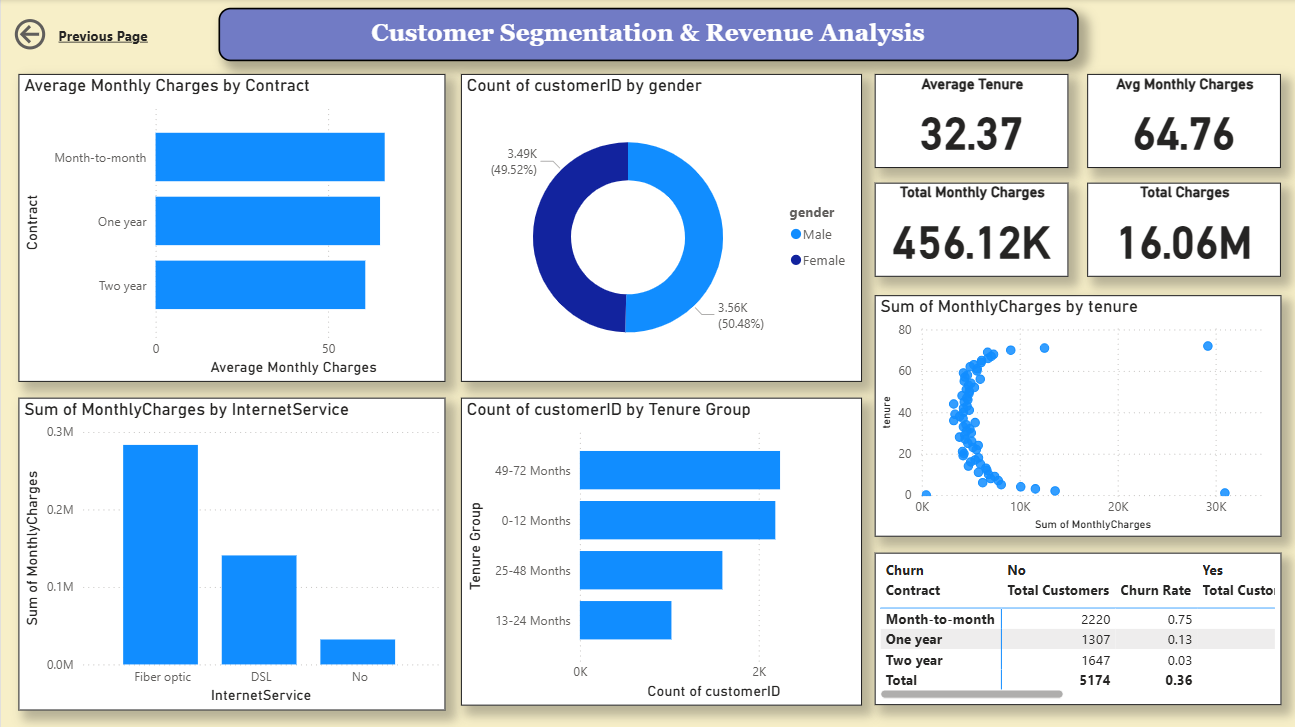

The dashboard page shown, as its layout file describes it:
{"tool":"powerbi","page":{"name":"Customer Segmentation","canvas":[1280,720],"ordinal":2},"visuals":[{"type":"actionButton","box":[8.3,15,170,40],"z":0},{"type":"textbox","box":[51.7,21.7,100.8,28.3],"z":1},{"type":"textbox","box":[214.7,8.4,849.3,53.1],"z":4},{"type":"clusteredBarChart","fields":{"Y":["Telco_Churn.Average Monthly Charges"],"Category":["Telco_Churn.Contract"]},"box":[17.1,74.3,421.4,304.3],"z":5},{"type":"clusteredColumnChart","fields":{"Y":["Sum(Telco_Churn.MonthlyCharges)"],"Category":["Telco_Churn.InternetService"]},"box":[17.1,394.3,421.4,308.6],"z":6},{"type":"donutChart","fields":{"Category":["Telco_Churn.gender"],"Y":["CountNonNull(Telco_Churn.customerID)"]},"box":[454.3,74.3,395.7,304.3],"z":7},{"type":"clusteredBarChart","fields":{"Y":["CountNonNull(Telco_Churn.customerID)"],"Category":["Telco_Churn.Tenure Group"]},"box":[454.3,394.3,395.7,304.3],"z":8},{"type":"scatterChart","fields":{"Y":["Telco_Churn.tenure"],"X":["Sum(Telco_Churn.MonthlyCharges)"]},"box":[862.9,292.9,401.4,238.6],"z":9},{"type":"pivotTable","fields":{"Rows":["Telco_Churn.Contract"],"Columns":["Telco_Churn.Churn"],"Values":["Telco_Churn.Total Customers","Telco_Churn.Churn Rate"]},"box":[862.9,547.1,401.4,150],"z":10},{"type":"card","title":"Average Tenure","fields":{"Values":["Telco_Churn.Average Tenure"]},"box":[862.9,74.3,191.4,92.9],"z":11},{"type":"card","title":"Total Monthly Charges","fields":{"Values":["Sum(Telco_Churn.MonthlyCharges)"]},"box":[862.9,181.4,191.4,92.9],"z":12},{"type":"card","title":"Avg Monthly Charges","fields":{"Values":["Telco_Churn.Average Monthly Charges"]},"box":[1072.9,74.3,191.4,92.9],"z":13},{"type":"card","title":"Total Charges","fields":{"Values":["Sum(Telco_Churn.TotalCharges)"]},"box":[1072.9,181.4,191.4,92.9],"z":14}]}

Visuals, with their boxes in screenshot pixels (x1, y1, x2, y2), scaled from the page's 1280x720 canvas onto the 1295x727 screenshot:
actionButton: left=8, top=15, right=180, bottom=56
textbox: left=52, top=22, right=154, bottom=50
textbox: left=217, top=8, right=1076, bottom=62
clusteredBarChart - Telco_Churn.Average Monthly Charges x Telco_Churn.Contract: left=17, top=75, right=444, bottom=382
clusteredColumnChart - Sum(Telco_Churn.MonthlyCharges) x Telco_Churn.InternetService: left=17, top=398, right=444, bottom=710
donutChart - Telco_Churn.gender x CountNonNull(Telco_Churn.customerID): left=460, top=75, right=860, bottom=382
clusteredBarChart - CountNonNull(Telco_Churn.customerID) x Telco_Churn.Tenure Group: left=460, top=398, right=860, bottom=705
scatterChart - Telco_Churn.tenure x Sum(Telco_Churn.MonthlyCharges): left=873, top=296, right=1279, bottom=537
pivotTable - Telco_Churn.Contract x Telco_Churn.Churn: left=873, top=552, right=1279, bottom=704
"Average Tenure" card: left=873, top=75, right=1067, bottom=169
"Total Monthly Charges" card: left=873, top=183, right=1067, bottom=277
"Avg Monthly Charges" card: left=1085, top=75, right=1279, bottom=169
"Total Charges" card: left=1085, top=183, right=1279, bottom=277
